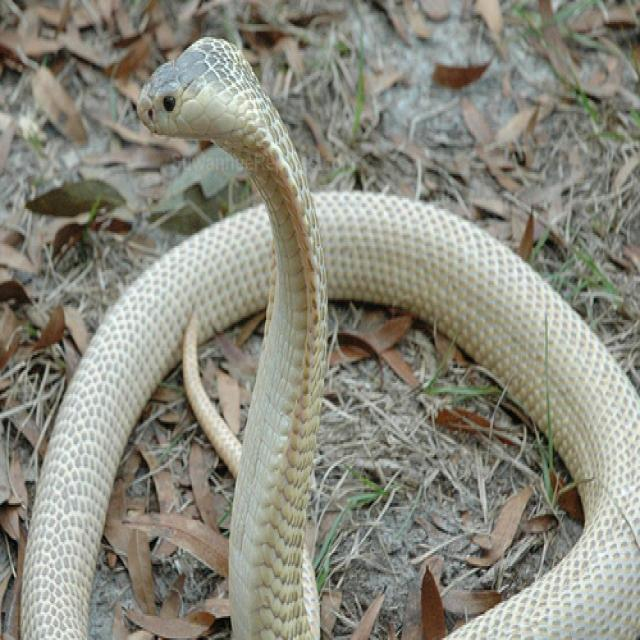Snake: (15, 33, 639, 638)
